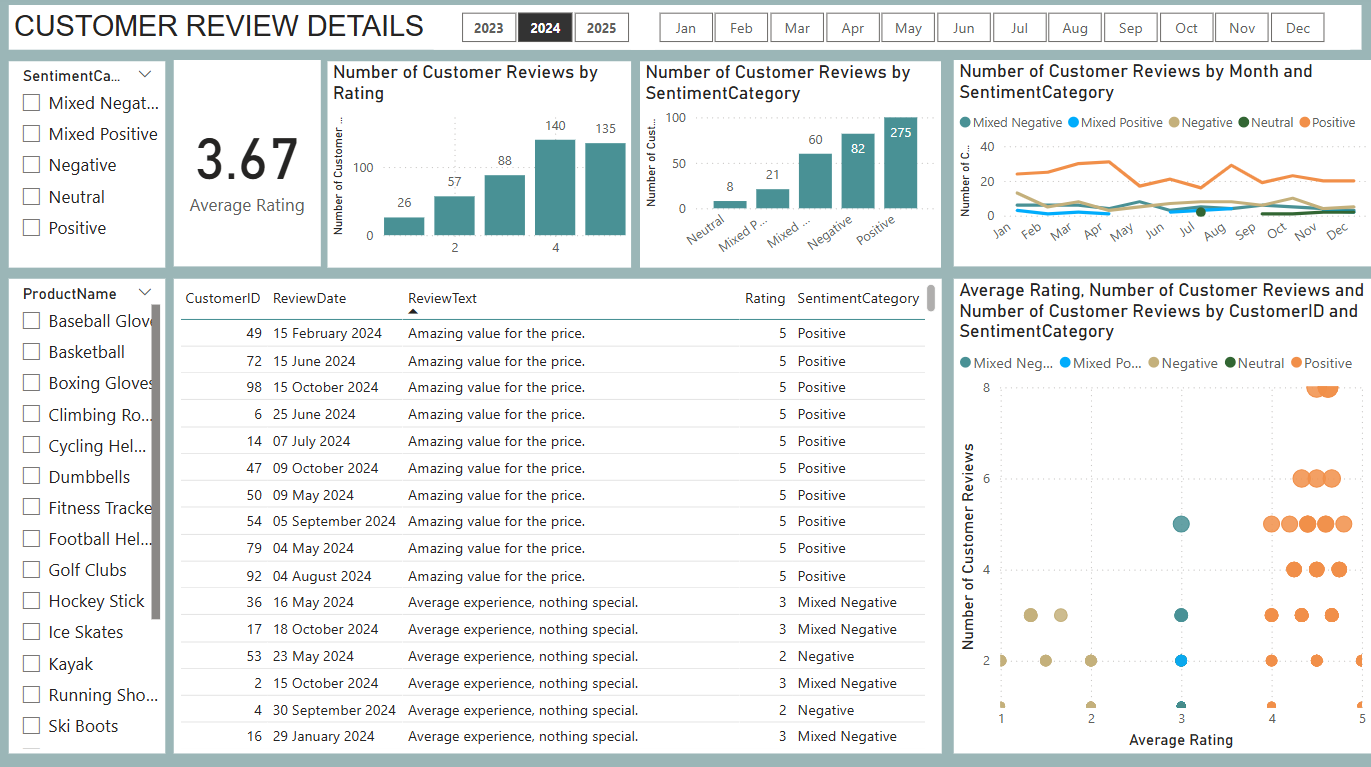

What the dashboard file says about the page in this screenshot:
{"tool":"powerbi","page":{"name":"CUSTOMER REVIEW DETAILS","canvas":[1280,720],"ordinal":3},"visuals":[{"type":"textbox","box":[12.2,9.8,1258.3,41.6],"z":0},{"type":"slicer","fields":{"Values":["Calendar.Year"]},"box":[408.4,9.8,205.4,41.6],"z":1000},{"type":"slicer","fields":{"Values":["Calendar.MonthNameShort"]},"box":[591.9,9.8,668.9,41.6],"z":2000},{"type":"slicer","fields":{"Values":["dim_products.ProductName"]},"box":[12.2,264.1,145.5,441.4],"z":3000},{"type":"card","fields":{"Values":["Calculations.Average Rating"]},"box":[166.3,59.9,137,192],"z":3001},{"type":"clusteredColumnChart","fields":{"Y":["Calculations.Number of Customer Reviews"],"Category":["fact_customer_reviews_with_sentiment.Rating"]},"box":[309.4,61.1,282.5,192],"z":3002},{"type":"clusteredColumnChart","fields":{"Y":["Calculations.Number of Customer Reviews"],"Category":["fact_customer_reviews_with_sentiment.SentimentCategory"]},"box":[600.4,61.1,280,192],"z":3003},{"type":"lineChart","fields":{"Y":["Calculations.Number of Customer Reviews"],"Category":["Calendar.MonthNameShort"],"Series":["fact_customer_reviews_with_sentiment.SentimentCategory"]},"box":[891.4,59.9,388.9,192],"z":3004},{"type":"tableEx","fields":{"Values":["fact_customer_reviews_with_sentiment.CustomerID","fact_customer_reviews_with_sentiment.ReviewDate","fact_customer_reviews_with_sentiment.ReviewText","fact_customer_reviews_with_sentiment.Rating","fact_customer_reviews_with_sentiment.SentimentCategory"]},"box":[166.3,264.1,714.1,441.4],"z":3005},{"type":"scatterChart","fields":{"X":["Calculations.Average Rating"],"Category":["dim_customers.CustomerID"],"Series":["fact_customer_reviews_with_sentiment.SentimentCategory"],"Y":["Calculations.Number of Customer Reviews"],"Size":["Calculations.Number of Customer Reviews"]},"box":[891.4,264.1,388.9,441.4],"z":3006},{"type":"slicer","fields":{"Values":["fact_customer_reviews_with_sentiment.SentimentCategory"]},"box":[12.2,61.1,145.5,192],"z":3007}]}

Visuals, with their boxes in screenshot pixels (x1, y1, x2, y2), scaled from the page's 1280x720 canvas onto the 1371x767 screenshot:
textbox: bbox=(13, 10, 1361, 55)
slicer - Calendar.Year: bbox=(437, 10, 657, 55)
slicer - Calendar.MonthNameShort: bbox=(634, 10, 1350, 55)
slicer - dim_products.ProductName: bbox=(13, 281, 169, 752)
card - Calculations.Average Rating: bbox=(178, 64, 325, 268)
clusteredColumnChart - Calculations.Number of Customer Reviews x fact_customer_reviews_with_sentiment.Rating: bbox=(331, 65, 634, 270)
clusteredColumnChart - Calculations.Number of Customer Reviews x fact_customer_reviews_with_sentiment.SentimentCategory: bbox=(643, 65, 943, 270)
lineChart - Calculations.Number of Customer Reviews x Calendar.MonthNameShort: bbox=(955, 64, 1370, 268)
tableEx - fact_customer_reviews_with_sentiment.CustomerID x fact_customer_reviews_with_sentiment.ReviewDate: bbox=(178, 281, 943, 752)
scatterChart - Calculations.Average Rating x dim_customers.CustomerID: bbox=(955, 281, 1370, 752)
slicer - fact_customer_reviews_with_sentiment.SentimentCategory: bbox=(13, 65, 169, 270)
